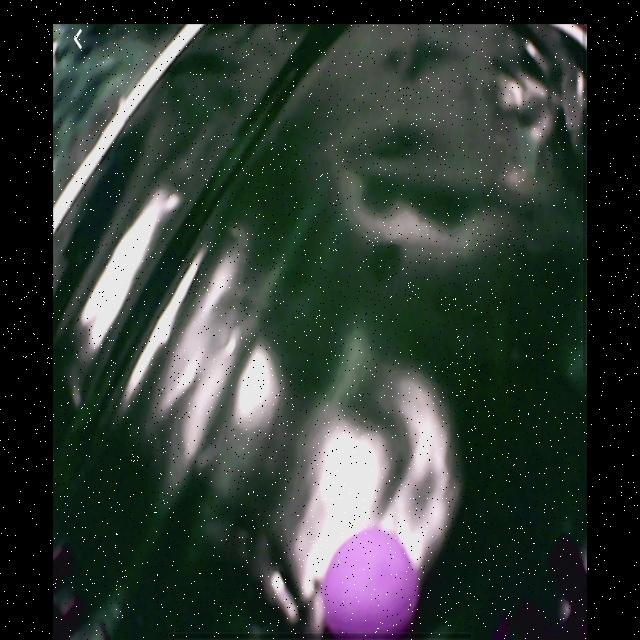ball: (322, 526, 420, 636)
